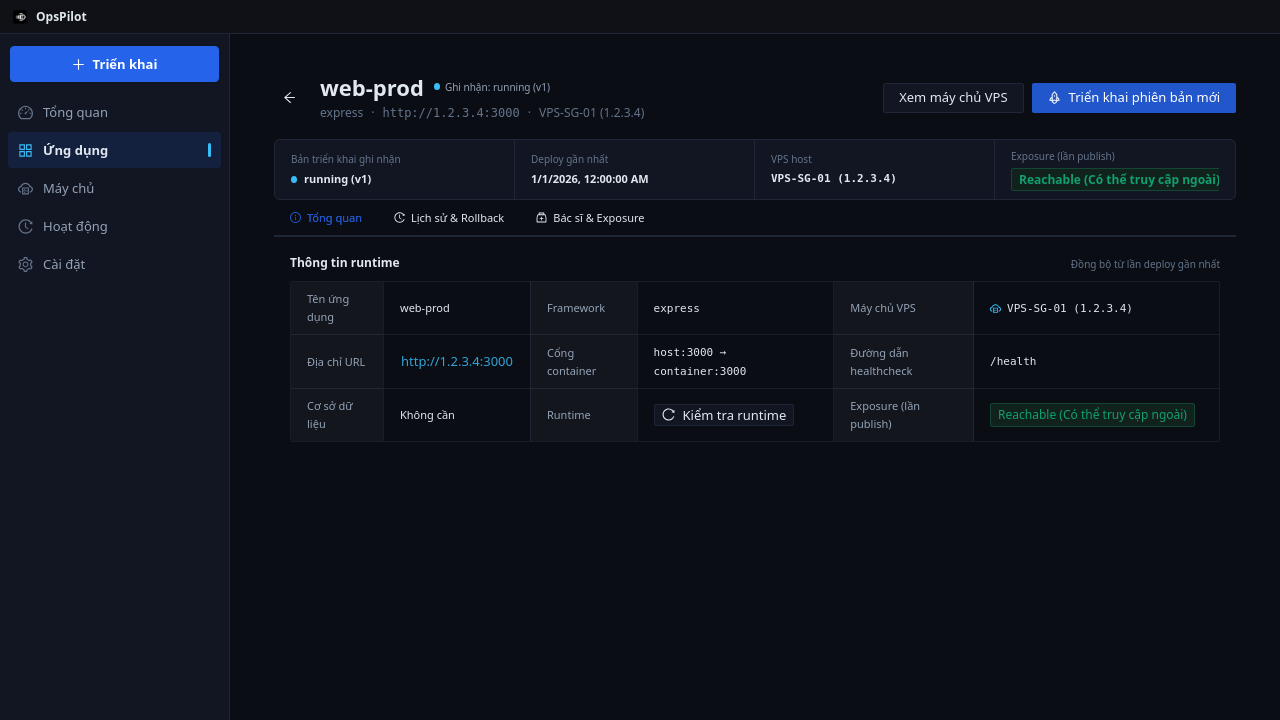
Scenario: App — UI-1a Desktop Shell & Navigation › khong co vps_id hop le trong app:get: giu o trang hien tai, bao loi ro rang, khong mo form tao app moi
Expected: the heading "web-prod" is shown, [320,72,424,102]
Step 1. Click the button "Triển khai" → click(114, 64), box [10,46,219,82]
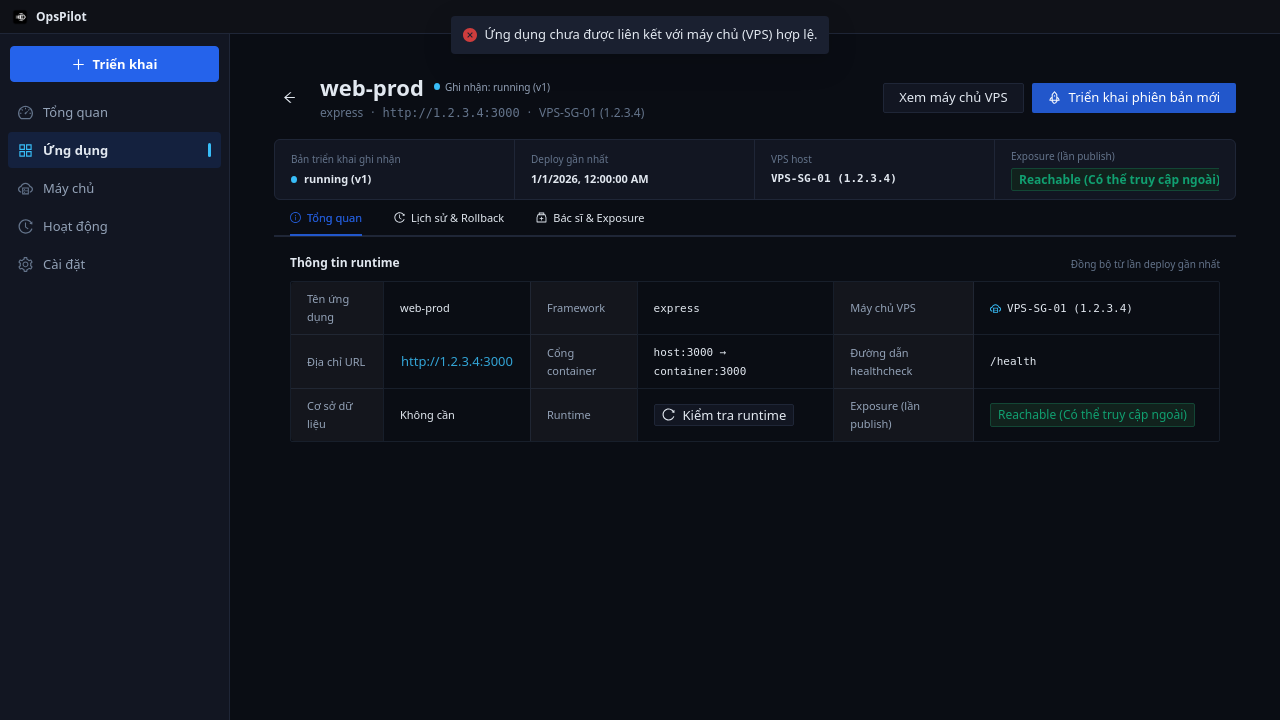
Expected: the text "Ứng dụng chưa được liên kết với máy chủ (VPS) hợp lệ." is shown, [484,24,818,45]
